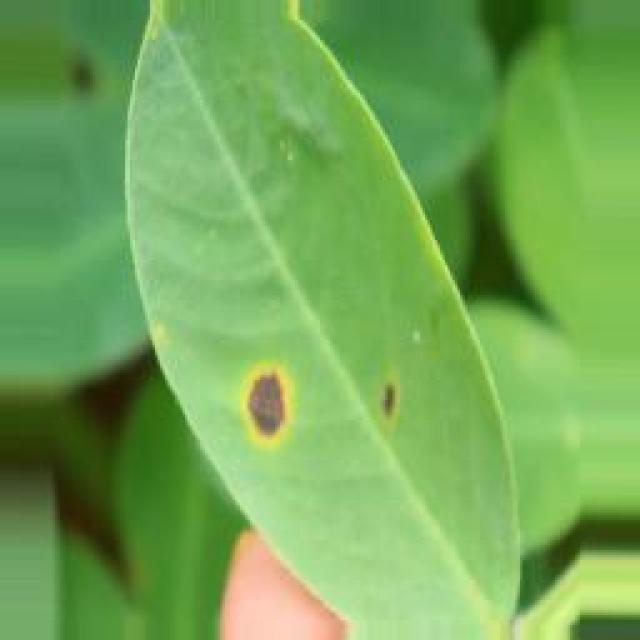Sigatoka: (235, 343, 301, 462), (108, 304, 176, 375), (368, 366, 428, 442)
